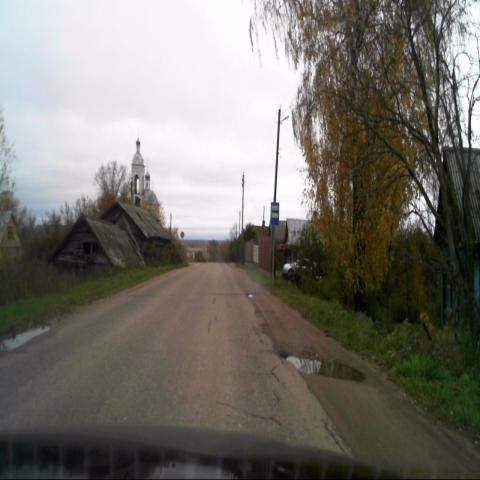5_16: (270, 202, 280, 224)
